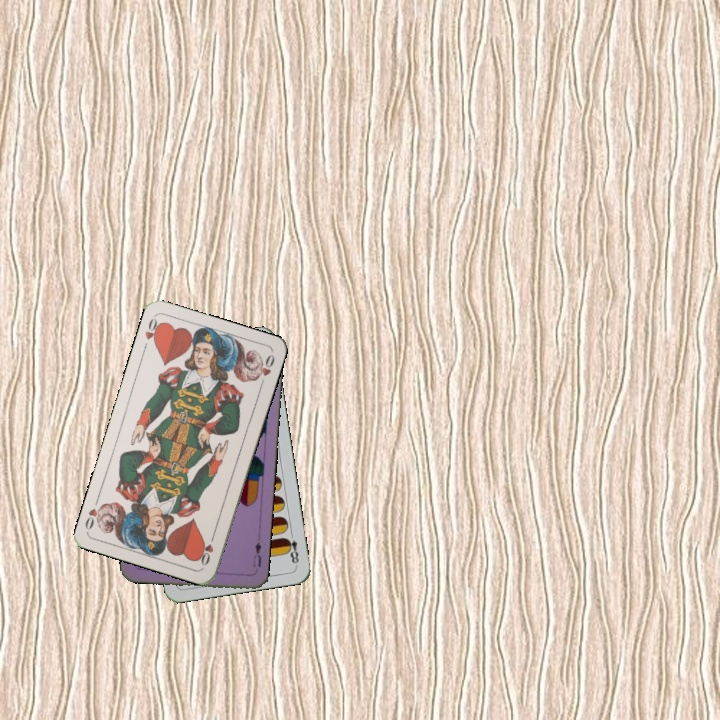E8: (282, 528, 301, 568)
EU: (249, 538, 264, 569)
HO: (139, 313, 164, 353), (196, 529, 218, 568)
